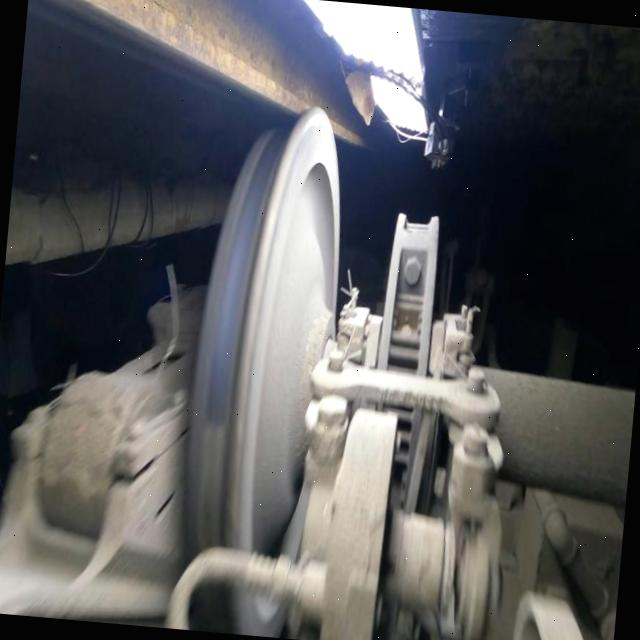Shelling: (194, 427, 227, 548)
Wheel: (185, 107, 339, 552)
